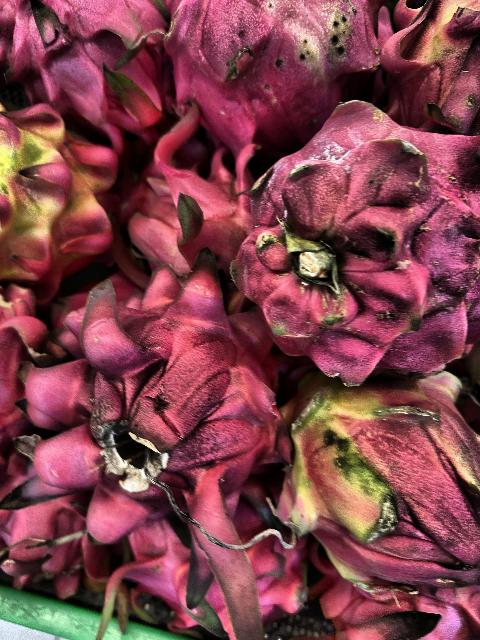buah-naga-belum-matang: (288, 369, 480, 587), (0, 88, 118, 310), (376, 0, 480, 136)
buah-naga-matang: (34, 265, 286, 575), (244, 101, 480, 377), (152, 0, 390, 136), (107, 98, 252, 278), (0, 5, 180, 136)
